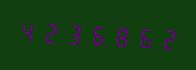eight: (109, 20, 131, 51)
four: (17, 15, 39, 46)
six: (86, 19, 108, 50), (132, 21, 154, 52)
three: (63, 18, 85, 49)
two: (40, 17, 62, 48), (155, 23, 177, 54)
